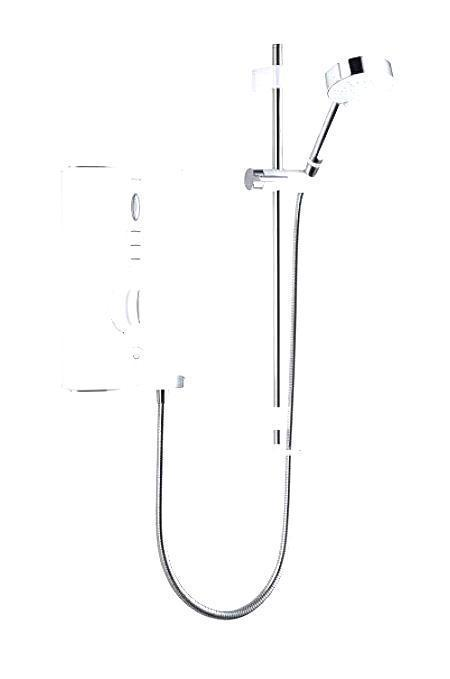Ducha: (58, 32, 385, 644)
